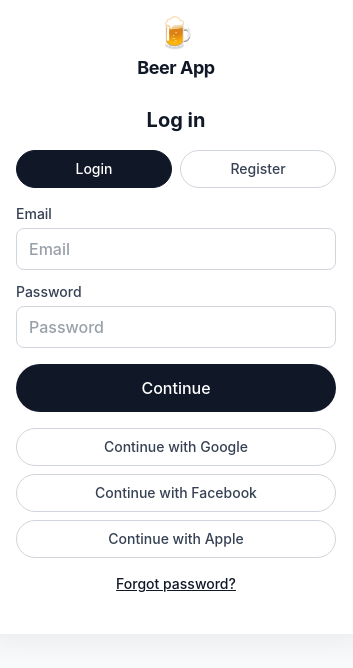
Test: AuthPage › shows a forgot password link in login mode only
expect the link "Forgot password?" is shown: met, box [116,575,236,592]
Click the button "Register": (258, 169) [180,150,336,188]
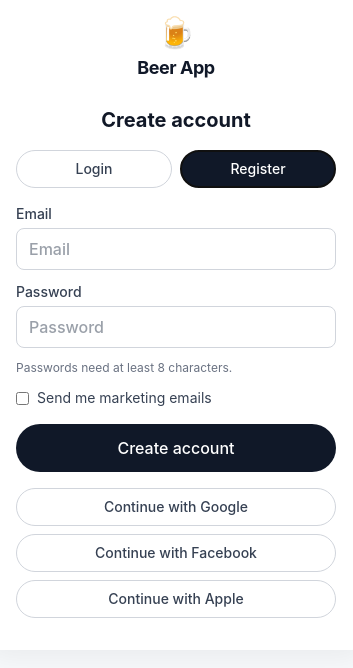
expect the link "Forgot password?" is gone: met
